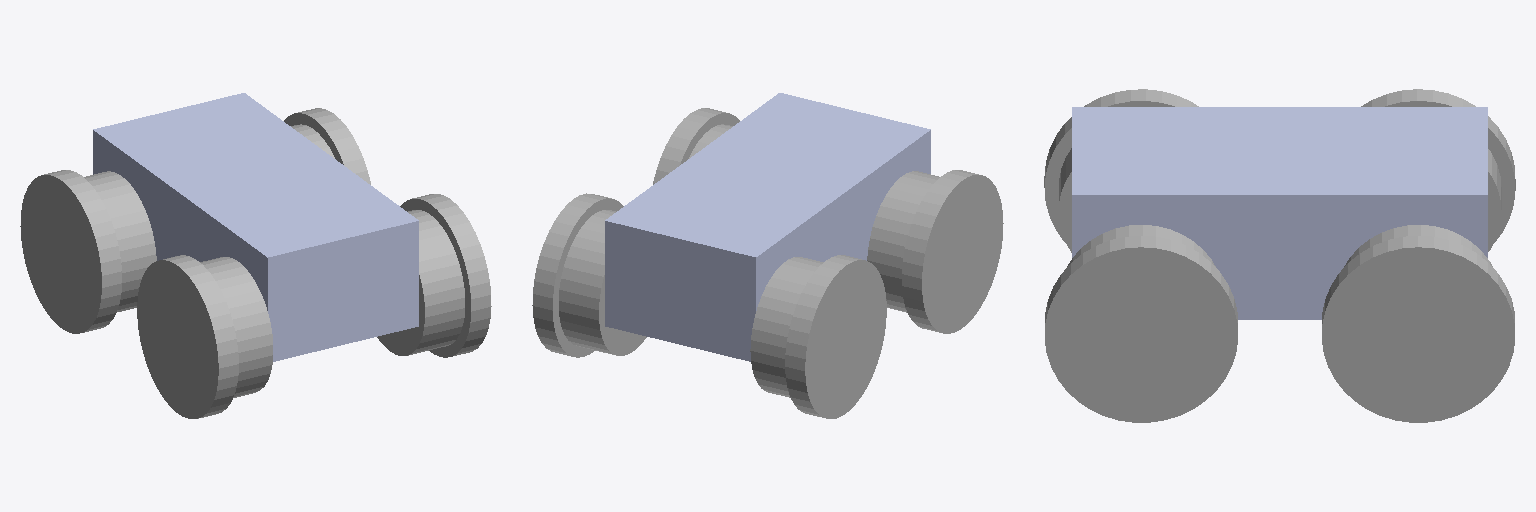
URDF robot description (4_WHEELER_NESTED_description):
<?xml version="1.0" encoding="utf-8"?>
<!-- This URDF was automatically created by SolidWorks to URDF Exporter! Originally created by Stephen Brawner (brawner@gmail.com) 
     Commit Version: 25f2e4c  Build Version: 1.6.9650.27696
     For more information, please see http://wiki.ros.org/sw_urdf_exporter -->
<robot
  name="4_WHEELER_NESTED_description">
  <link
    name="base_link">
    <inertial>
      <origin
        xyz="-0.0141165384615385 1.92116548051542E-18 0.0069190520362904"
        rpy="0 0 0" />
      <mass
        value="0.563365165980808" />
      <inertia
        ixx="0.00116991160584325"
        ixy="1.08541480873037E-19"
        ixz="-1.21271091266427E-20"
        iyy="0.000379959750479481"
        iyz="2.37730438953325E-20"
        izz="0.00131589792050722" />
    </inertial>
    <visual>
      <origin
        xyz="0 0 0"
        rpy="0 0 0" />
      <geometry>
        <mesh
          filename="package://4_WHEELER_NESTED_description/meshes/base_link.STL" />
      </geometry>
      <material
        name="">
        <color
          rgba="0.792156862745098 0.819607843137255 0.933333333333333 1" />
      </material>
    </visual>
    <collision>
      <origin
        xyz="0 0 0"
        rpy="0 0 0" />
      <geometry>
        <mesh
          filename="package://4_WHEELER_NESTED_description/meshes/base_link.STL" />
      </geometry>
    </collision>
  </link>
  <link
    name="front_right_link">
    <inertial>
      <origin
        xyz="0.0160973084886128 -1.21430643318376E-17 -2.08166817117217E-17"
        rpy="0 0 0" />
      <mass
        value="0.0948368282302419" />
      <inertia
        ixx="4.90180492807281E-05"
        ixy="1.59355527597186E-21"
        ixz="-5.57899635461016E-22"
        iyy="2.67081223942584E-05"
        iyz="1.35119091414065E-21"
        izz="2.67081223942584E-05" />
    </inertial>
    <visual>
      <origin
        xyz="0 0 0"
        rpy="0 0 0" />
      <geometry>
        <mesh
          filename="package://4_WHEELER_NESTED_description/meshes/front_right_link.STL" />
      </geometry>
      <material
        name="">
        <color
          rgba="0.752941176470588 0.752941176470588 0.752941176470588 1" />
      </material>
    </visual>
    <collision>
      <origin
        xyz="0 0 0"
        rpy="0 0 0" />
      <geometry>
        <mesh
          filename="package://4_WHEELER_NESTED_description/meshes/front_right_link.STL" />
      </geometry>
    </collision>
  </link>
  <joint
    name="front_right_joint"
    type="continuous">
    <origin
      xyz="-0.0516165384615384 -0.05 -0.00997411961288419"
      rpy="1.5707963267949 0 3.14159265358979" />
    <parent
      link="base_link" />
    <child
      link="front_right_link" />
    <axis
      xyz="1 0 0" />
    <safety_controller
      k_velocity="0" />
  </joint>
  <link
    name="back_right_link">
    <inertial>
      <origin
        xyz="0.0160973084886128 1.21430643318376E-17 -6.93889390390723E-18"
        rpy="0 0 0" />
      <mass
        value="0.0948368282302419" />
      <inertia
        ixx="4.90180492807281E-05"
        ixy="1.02975700590794E-22"
        ixz="2.17716963245722E-22"
        iyy="2.67081223942584E-05"
        iyz="-2.11467000306239E-21"
        izz="2.67081223942584E-05" />
    </inertial>
    <visual>
      <origin
        xyz="0 0 0"
        rpy="0 0 0" />
      <geometry>
        <mesh
          filename="package://4_WHEELER_NESTED_description/meshes/back_right_link.STL" />
      </geometry>
      <material
        name="">
        <color
          rgba="0.752941176470588 0.752941176470588 0.752941176470588 1" />
      </material>
    </visual>
    <collision>
      <origin
        xyz="0 0 0"
        rpy="0 0 0" />
      <geometry>
        <mesh
          filename="package://4_WHEELER_NESTED_description/meshes/back_right_link.STL" />
      </geometry>
    </collision>
  </link>
  <joint
    name="back_right_joint"
    type="continuous">
    <origin
      xyz="-0.0516165384615384 0.05 -0.00997411961288421"
      rpy="1.5707963267949 0 3.14159265358979" />
    <parent
      link="base_link" />
    <child
      link="back_right_link" />
    <axis
      xyz="1 0 0" />
    <safety_controller
      k_velocity="0" />
  </joint>
  <link
    name="front_left_link">
    <inertial>
      <origin
        xyz="0.0160973084886128 5.20417042793042E-18 -2.08166817117217E-17"
        rpy="0 0 0" />
      <mass
        value="0.0948368282302419" />
      <inertia
        ixx="4.90180492807281E-05"
        ixy="7.5311181916667E-23"
        ixz="1.07045414697907E-22"
        iyy="2.67081223942584E-05"
        iyz="2.12254491328202E-22"
        izz="2.67081223942584E-05" />
    </inertial>
    <visual>
      <origin
        xyz="0 0 0"
        rpy="0 0 0" />
      <geometry>
        <mesh
          filename="package://4_WHEELER_NESTED_description/meshes/front_left_link.STL" />
      </geometry>
      <material
        name="">
        <color
          rgba="0.752941176470588 0.752941176470588 0.752941176470588 1" />
      </material>
    </visual>
    <collision>
      <origin
        xyz="0 0 0"
        rpy="0 0 0" />
      <geometry>
        <mesh
          filename="package://4_WHEELER_NESTED_description/meshes/front_left_link.STL" />
      </geometry>
    </collision>
  </link>
  <joint
    name="front_left_joint"
    type="continuous">
    <origin
      xyz="0.0233834615384615 -0.05 -0.0099741196128842"
      rpy="1.5707963267949 0 0" />
    <parent
      link="base_link" />
    <child
      link="front_left_link" />
    <axis
      xyz="-1 0 0" />
    <safety_controller
      k_velocity="0" />
  </joint>
  <link
    name="back_left_link">
    <inertial>
      <origin
        xyz="0.0160973084886128 6.93889390390723E-18 6.93889390390723E-18"
        rpy="0 0 0" />
      <mass
        value="0.0948368282302419" />
      <inertia
        ixx="4.90180492807281E-05"
        ixy="-5.66724053795126E-22"
        ixz="-4.24781852640203E-22"
        iyy="2.67081223942584E-05"
        iyz="5.0340698813362E-22"
        izz="2.67081223942584E-05" />
    </inertial>
    <visual>
      <origin
        xyz="0 0 0"
        rpy="0 0 0" />
      <geometry>
        <mesh
          filename="package://4_WHEELER_NESTED_description/meshes/back_left_link.STL" />
      </geometry>
      <material
        name="">
        <color
          rgba="0.752941176470588 0.752941176470588 0.752941176470588 1" />
      </material>
    </visual>
    <collision>
      <origin
        xyz="0 0 0"
        rpy="0 0 0" />
      <geometry>
        <mesh
          filename="package://4_WHEELER_NESTED_description/meshes/back_left_link.STL" />
      </geometry>
    </collision>
  </link>
  <joint
    name="back_left_joint"
    type="continuous">
    <origin
      xyz="0.0233834615384615 0.05 -0.00997411961288421"
      rpy="1.5707963267949 0 0" />
    <parent
      link="base_link" />
    <child
      link="back_left_link" />
    <axis
      xyz="-1 0 0" />
    <safety_controller
      k_velocity="0" />
  </joint>
</robot>

--- Render facts (derived) ---
3 views of the same robot in one strip: view 1: azimuth 30°, elevation 25°; view 2: azimuth 150°, elevation 25°; view 3: azimuth 270°, elevation 25° (orthographic).
Robot: 4_WHEELER_NESTED_description — 5 links, 4 joints (4 continuous); root link base_link; default pose: all joints at 0.
Links seen in each view (by area): view 1: base_link, front_right_link, back_right_link, front_left_link, back_left_link; view 2: base_link, back_right_link, front_right_link, back_left_link, front_left_link; view 3: base_link, back_left_link, front_left_link, back_right_link, front_right_link.
Boxes of the visible links, x1,y1,x2,y2 form: base_link: [93, 93, 418, 361]; front_right_link: [137, 255, 272, 418]; back_right_link: [20, 170, 156, 333]; front_left_link: [377, 194, 491, 357]; back_left_link: [284, 108, 370, 184]; base_link: [605, 93, 930, 361]; back_right_link: [750, 255, 886, 418]; front_right_link: [867, 170, 1003, 333]; back_left_link: [532, 193, 646, 357]; front_left_link: [653, 108, 739, 184]; base_link: [1072, 107, 1487, 319]; back_left_link: [1322, 225, 1514, 422]; front_left_link: [1045, 225, 1237, 422]; back_right_link: [1361, 89, 1515, 251]; front_right_link: [1044, 89, 1198, 252].
Size in the robot's own frame: 0.135 by 0.17 by 0.0769 metres.
Meshes: 5 distinct files referenced, 5 mesh visuals loaded (5 binary STL).
